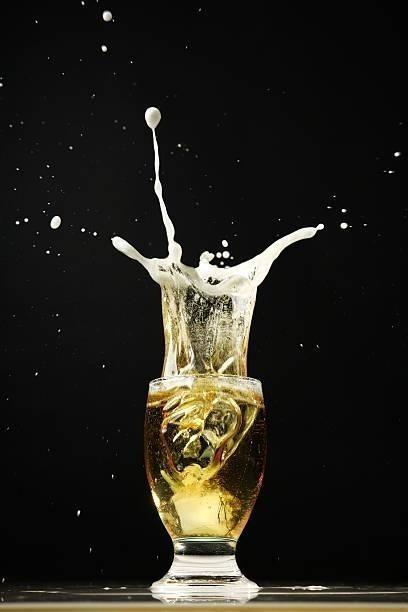glass-wine: (141, 372, 269, 599)
